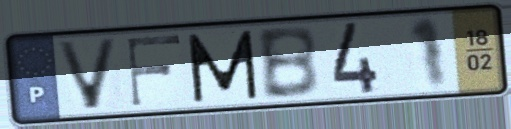1: (406, 14, 452, 93)
4: (329, 20, 382, 97)
B: (253, 23, 323, 102)
F: (124, 32, 185, 109)
M: (184, 28, 262, 106)
V: (53, 36, 123, 113)
